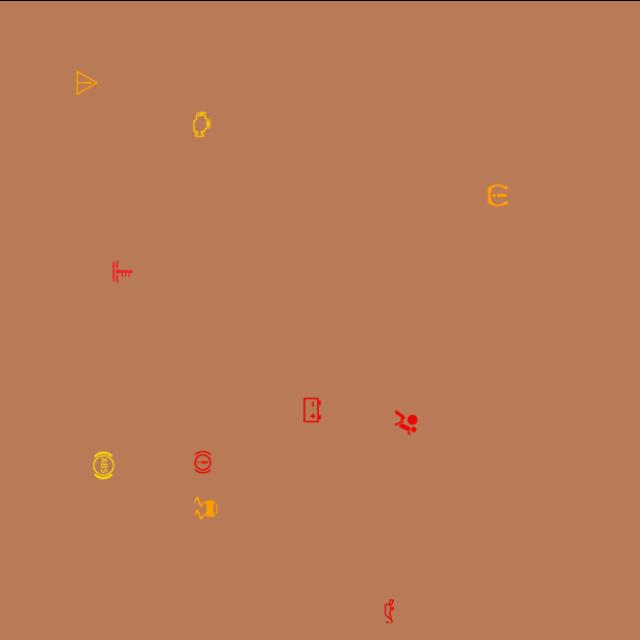Anti Lock Braking System: (88, 450, 118, 480)
Braking System Issue: (188, 446, 218, 476)
Charging System Issue: (297, 394, 327, 424)
Check Engine: (186, 108, 216, 138)
Electronic Stability Problem -ESP-: (191, 492, 221, 522)
Engine Overheating Warning Light: (108, 256, 138, 286)
Low Engine Oil Warning Light: (374, 596, 404, 626)
Low Tire Pressure Warning Light: (482, 180, 512, 210)
Master warning light: (72, 67, 102, 97)
SRS-Airbag: (391, 406, 421, 436)
